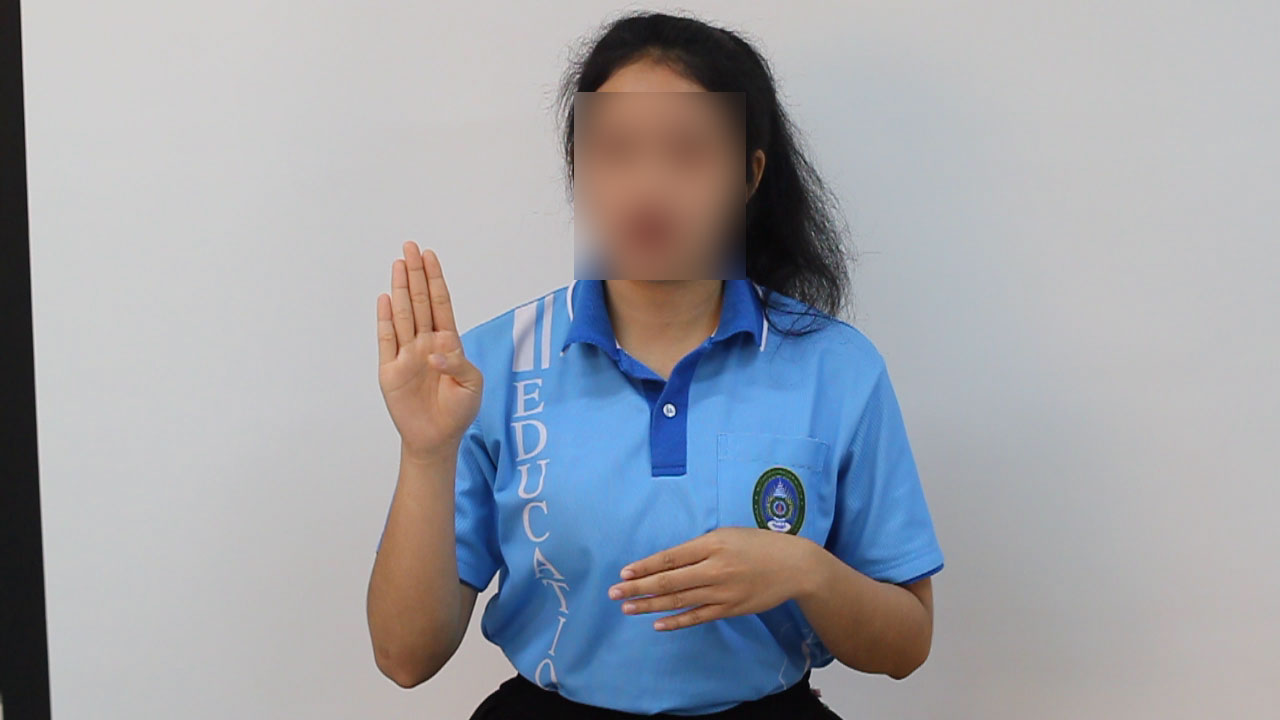bor: (350, 224, 509, 487)
